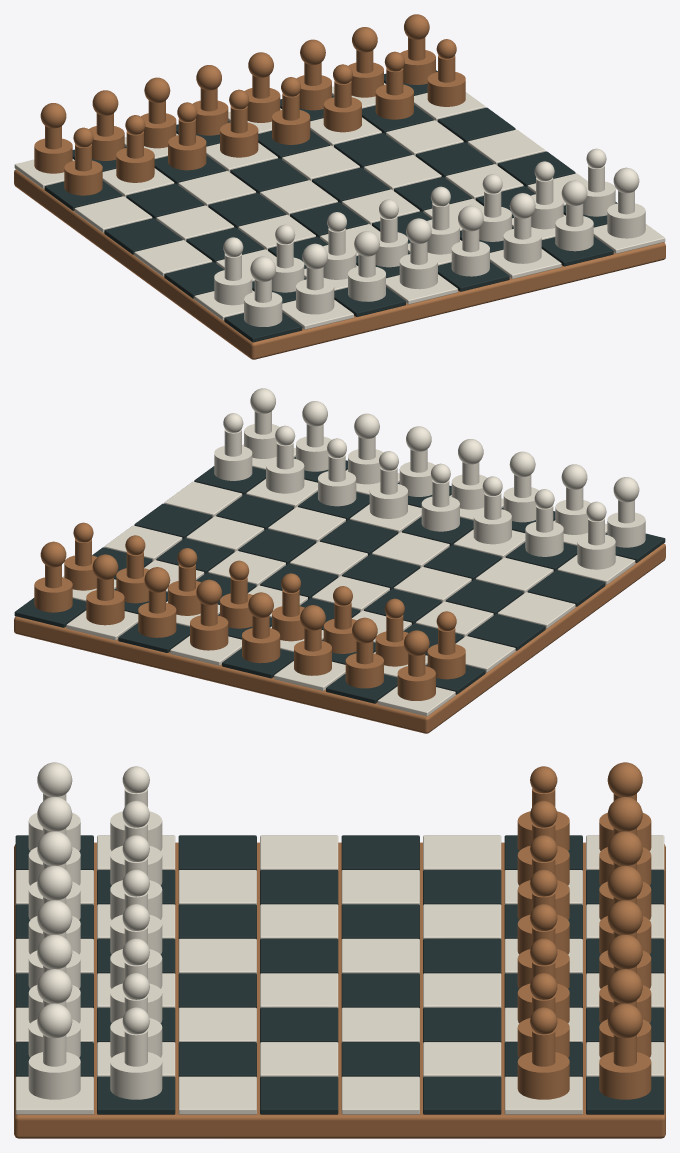
File: wp-echiquier-et-pieces.glb
The picture shows the model from 3 angles, top to bottom: view 1: azimuth 30°, elevation 25°; view 2: azimuth 150°, elevation 25°; view 3: azimuth 270°, elevation 25°; orthographic projection. The views are drawn at different scales.
Parts seen in each view (by area): view 1: wp-echiquier-et-pieces; view 2: wp-echiquier-et-pieces; view 3: wp-echiquier-et-pieces.
Boxes of the visible parts, box(x1,y1,x2,y2) form: wp-echiquier-et-pieces: box(14, 14, 665, 359); wp-echiquier-et-pieces: box(14, 388, 665, 733); wp-echiquier-et-pieces: box(14, 762, 665, 1138).
Size of the model in its own units: 0.5 by 0.1 by 0.5.
